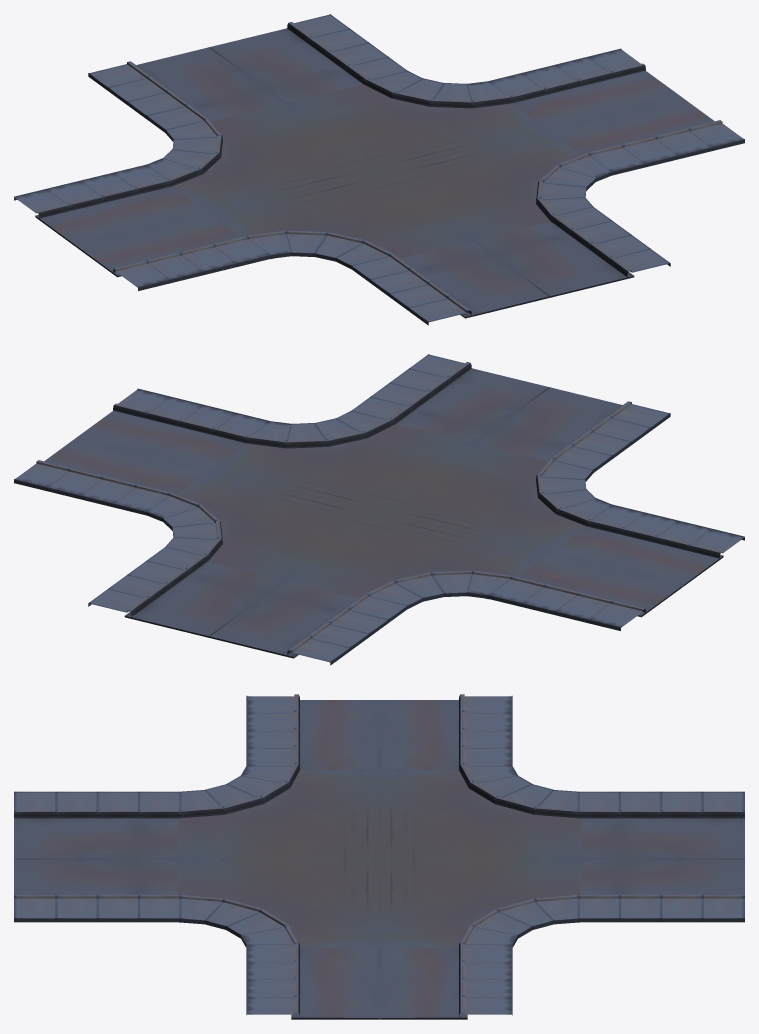
Rendered from Cross21.fbx.
The picture shows the model from 3 angles, top to bottom: view 1: azimuth 30°, elevation 25°; view 2: azimuth 150°, elevation 25°; view 3: azimuth 270°, elevation 25°; orthographic projection. The views are drawn at different scales.
Parts seen in each view (by area): view 1: Box003.004; view 2: Box003.004; view 3: Box003.004.
Boxes of the visible parts, left/top/right/bottom form: Box003.004: left=14, top=14, right=744, bottom=325; Box003.004: left=14, top=354, right=744, bottom=665; Box003.004: left=14, top=694, right=744, bottom=1019.
Size of the model in its own units: 8199 by 93.59 by 7962.
Materials: 1 (1 with a texture image).
